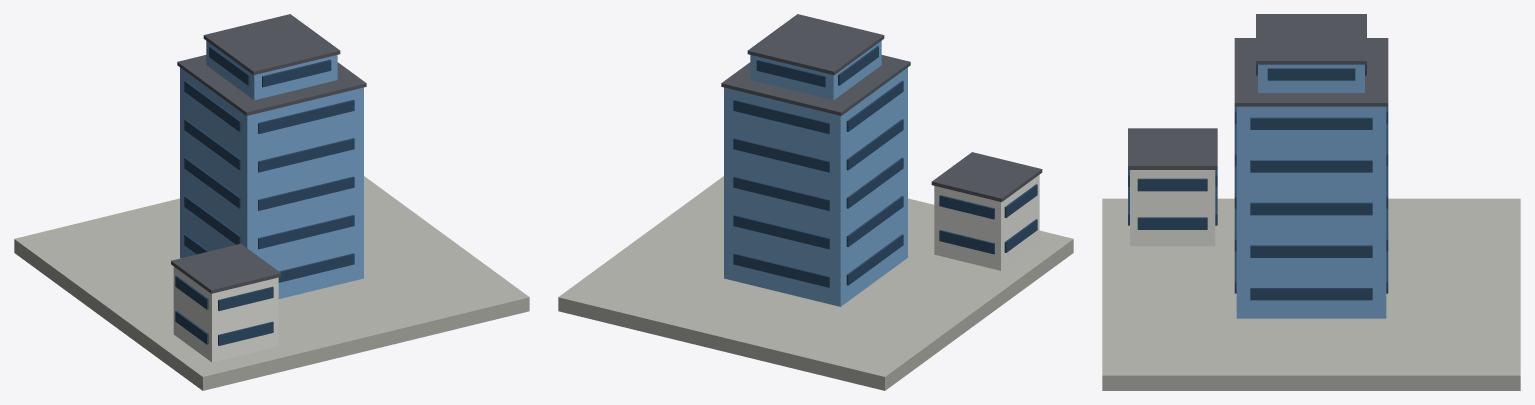
Rendered from finance_rent_2.glb.
3 views of the same model, side by side, from view 1: azimuth 30°, elevation 25°; view 2: azimuth 150°, elevation 25°; view 3: azimuth 270°, elevation 25° (orthographic). The views are drawn at different scales.
Parts seen in each view (by area): view 1: finance_rent_2; view 2: finance_rent_2; view 3: finance_rent_2.
Boxes of the visible parts, box(x1,y1,x2,y2) form: finance_rent_2: box(14, 14, 529, 390); finance_rent_2: box(558, 14, 1073, 390); finance_rent_2: box(1102, 14, 1520, 390).
Bounding box in the file's own units: 1.96 × 1.37 × 1.96.
